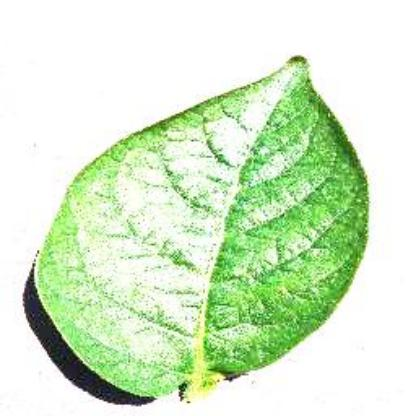Healthy-plant: (31, 48, 371, 405)
